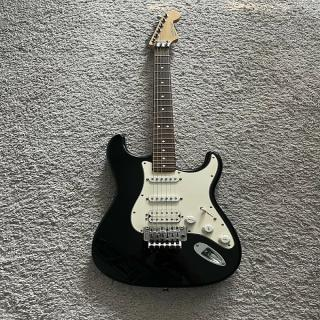Fender Stratocaster: (89, 10, 247, 294)
HSS: (144, 172, 187, 232)
